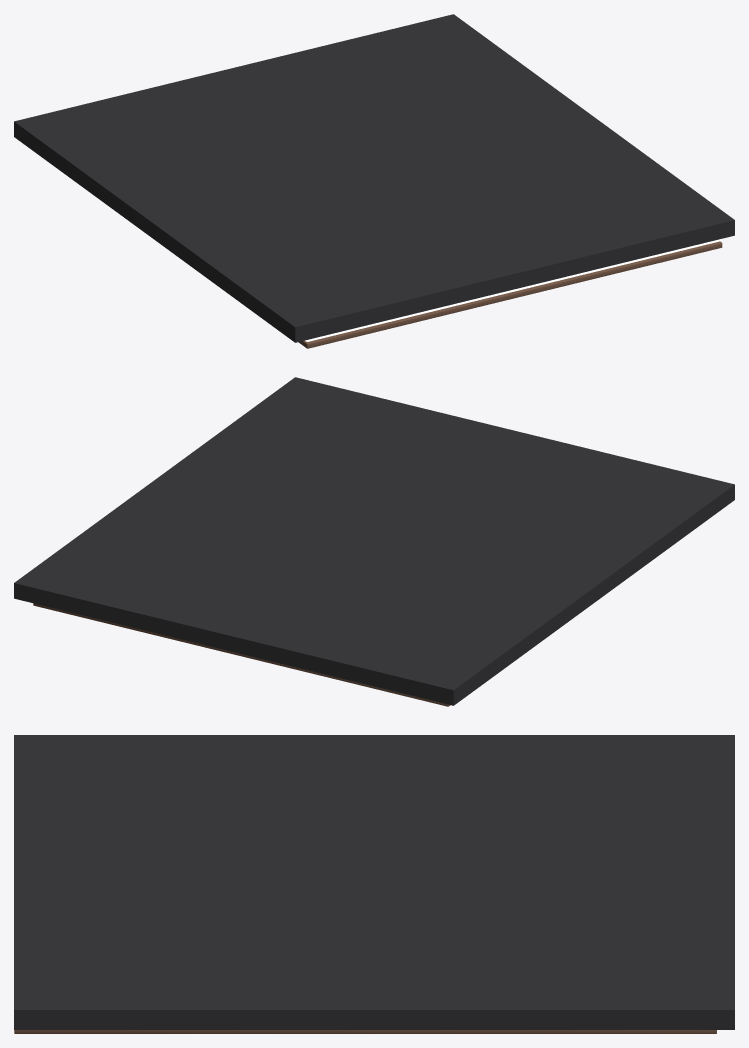
File: ceiling_DD303.glb
3 renders of one model, top to bottom at view 1: azimuth 30°, elevation 25°; view 2: azimuth 150°, elevation 25°; view 3: azimuth 270°, elevation 25°, orthographic. The views are drawn at different scales.
Visible parts, largest first — view 1: Ceiling_Shell, Ceiling_Plate, Ceiling_Glow; view 2: Ceiling_Shell, Ceiling_Plate; view 3: Ceiling_Shell, Ceiling_Plate.
Boxes of the visible parts, x1=… form: Ceiling_Shell: x1=14, y1=14, x2=734, y2=342; Ceiling_Plate: x1=298, y1=241, x2=722, y2=348; Ceiling_Glow: x1=305, y1=239, x2=722, y2=341; Ceiling_Shell: x1=14, y1=377, x2=734, y2=705; Ceiling_Plate: x1=33, y1=603, x2=450, y2=706; Ceiling_Shell: x1=14, y1=735, x2=734, y2=1029; Ceiling_Plate: x1=14, y1=1030, x2=716, y2=1033.
Bounding box in the file's own units: 1.48 × 0.083 × 1.64.
